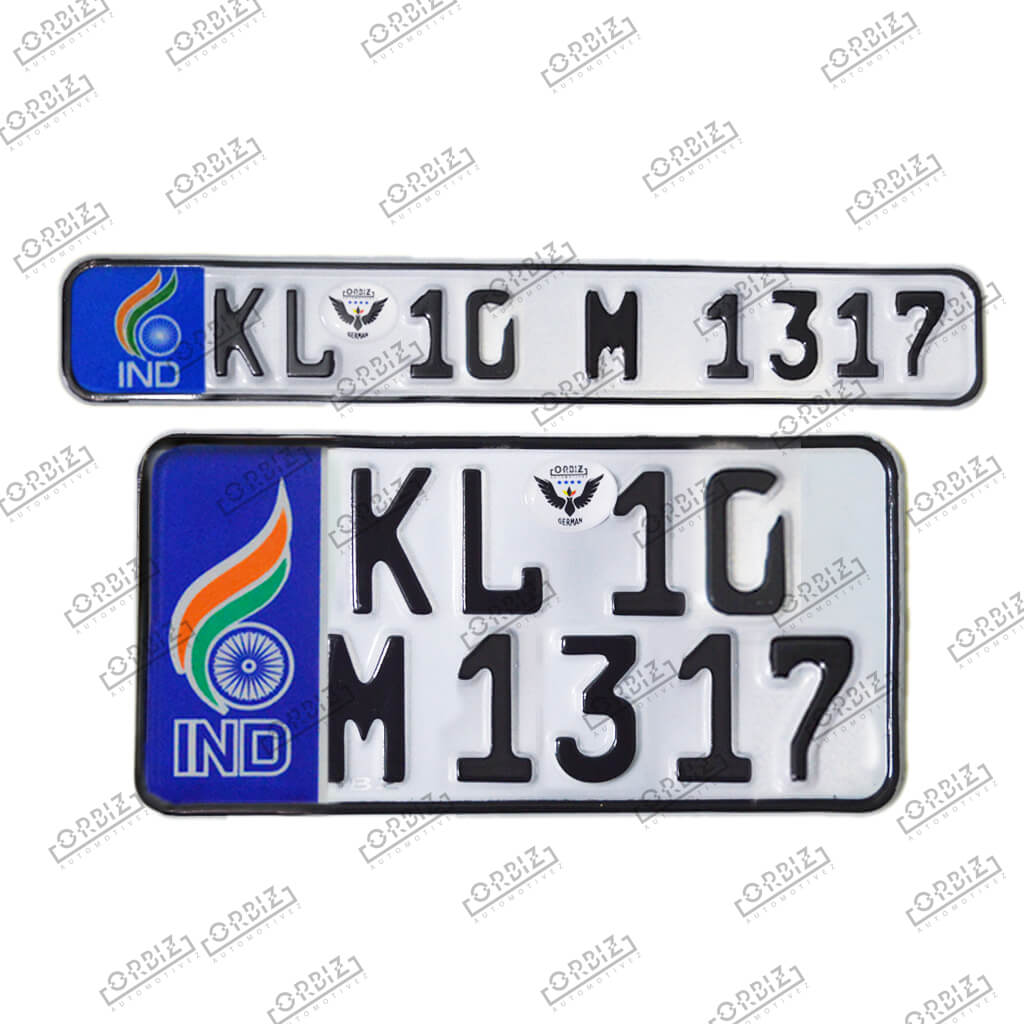number_plate: (131, 427, 903, 823), (59, 248, 991, 409)
